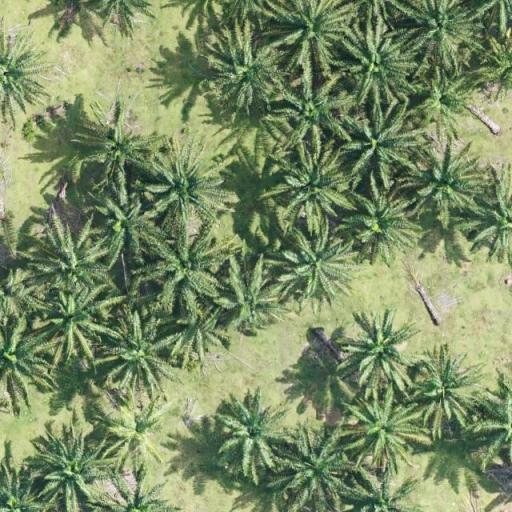Ganoderma: (114, 407, 163, 453), (428, 84, 467, 120)
